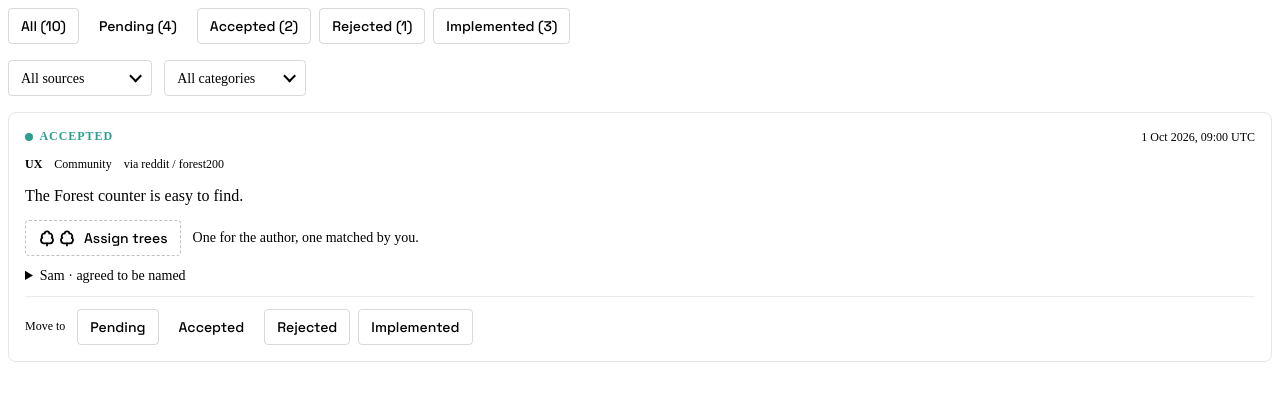
Test: AdminFeedbackBoard › assigning trees › says why when the server refuses the award
Expected: the text "The Forest counter is easy to find." is shown, [25,186,243,204]
Click the button with aria-label "Assign 2 trees". click: {"x": 103, "y": 238}
box: [25,220,181,256]
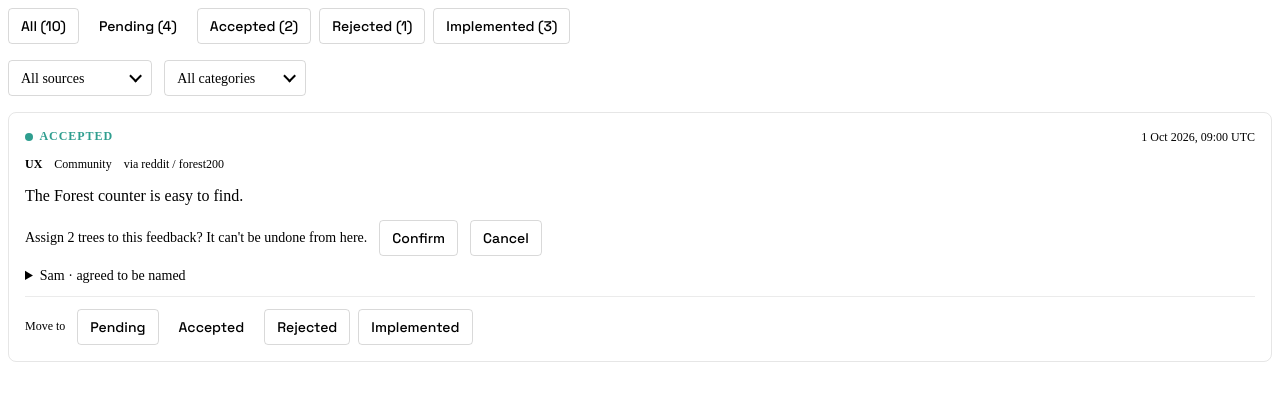
Click the button "Confirm". click: {"x": 419, "y": 238}
box: [379,220,458,256]
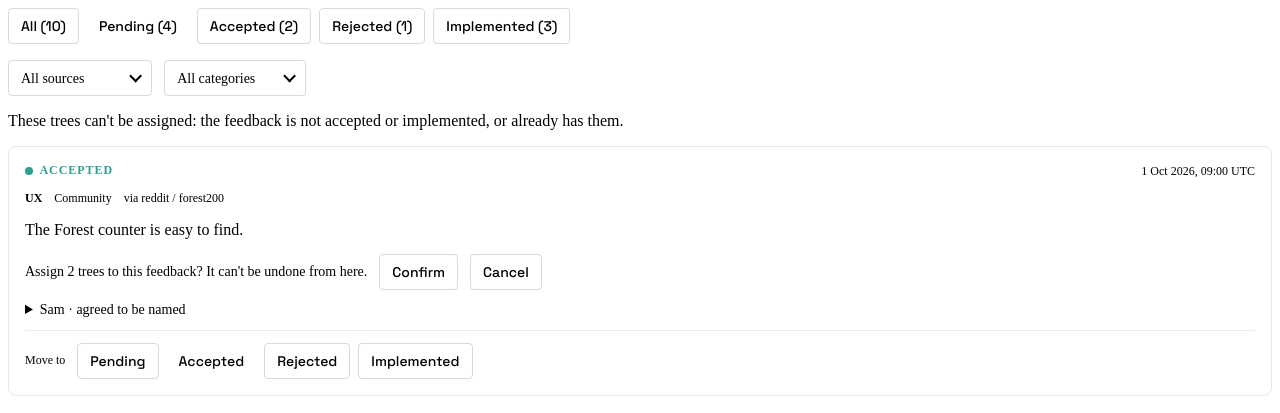
Result: the message shows "can't be assigned" at [8,112,624,129]
